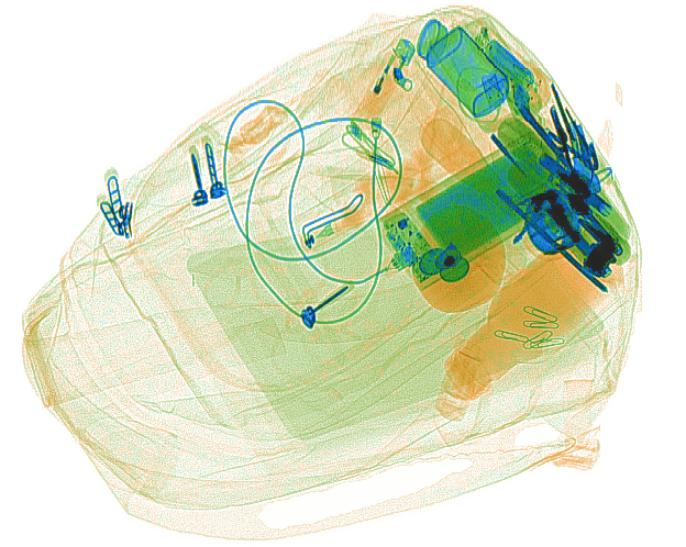battery: (482, 39, 535, 93)
lighter: (346, 38, 419, 133)
